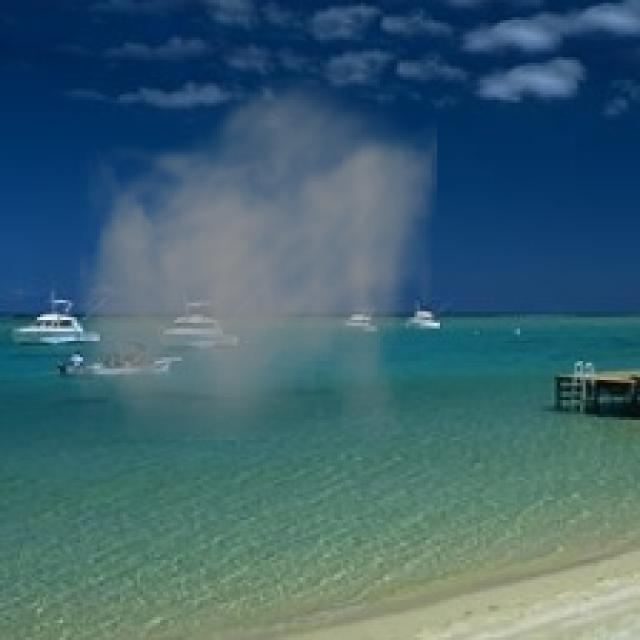smoke: (74, 66, 437, 440)
